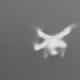plane: (30, 23, 80, 60)
